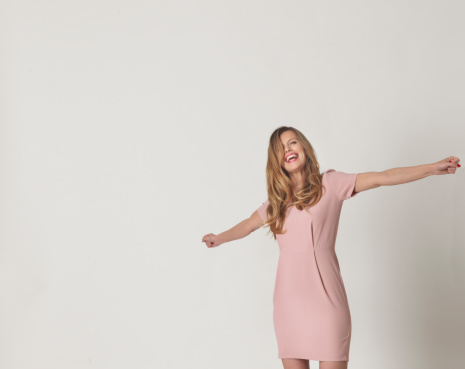em pe: (202, 106, 401, 369)
